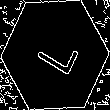L_NW: (29, 29, 81, 81)
